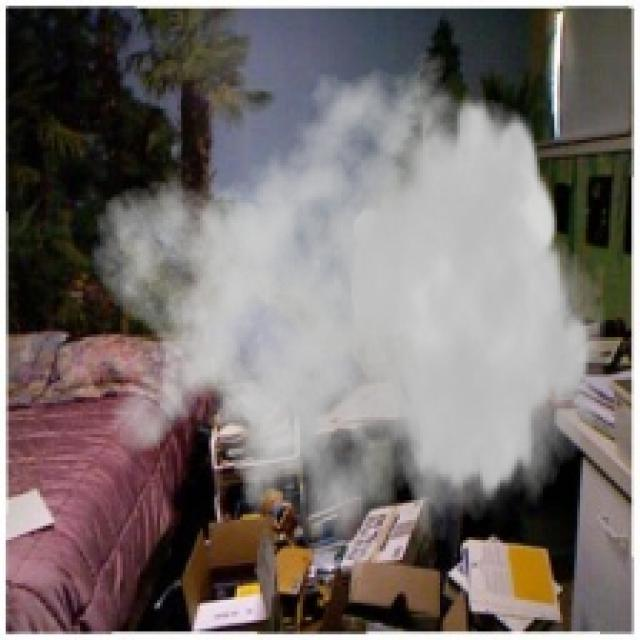smoke: (89, 43, 608, 606)
